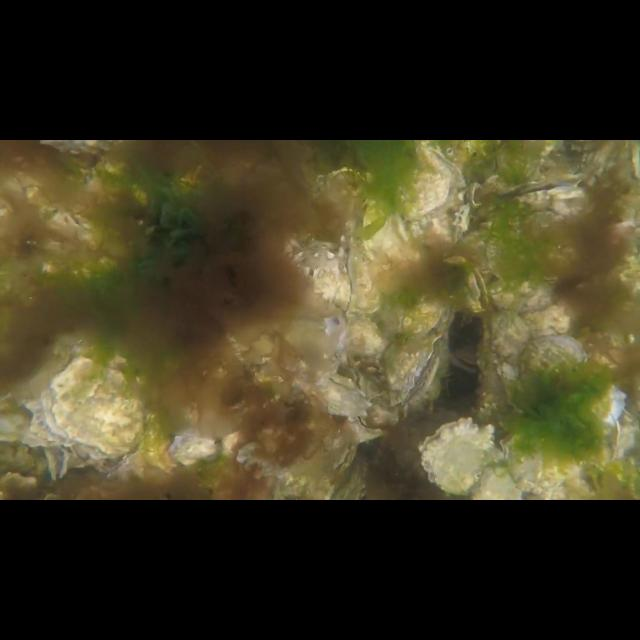Oyster-Closed: (501, 428, 582, 497), (389, 336, 445, 406), (300, 374, 376, 420), (339, 237, 357, 315), (344, 413, 390, 442)
Oyster-Indeterminate: (44, 356, 146, 458), (523, 334, 629, 424), (422, 416, 498, 494), (365, 198, 417, 294), (400, 140, 458, 222), (488, 311, 532, 409), (488, 276, 556, 314), (349, 245, 383, 318), (410, 299, 456, 346), (172, 429, 220, 465)
Oyster-Open: (493, 180, 592, 230), (468, 268, 494, 314), (306, 254, 338, 288), (327, 358, 359, 390), (620, 140, 640, 184)
